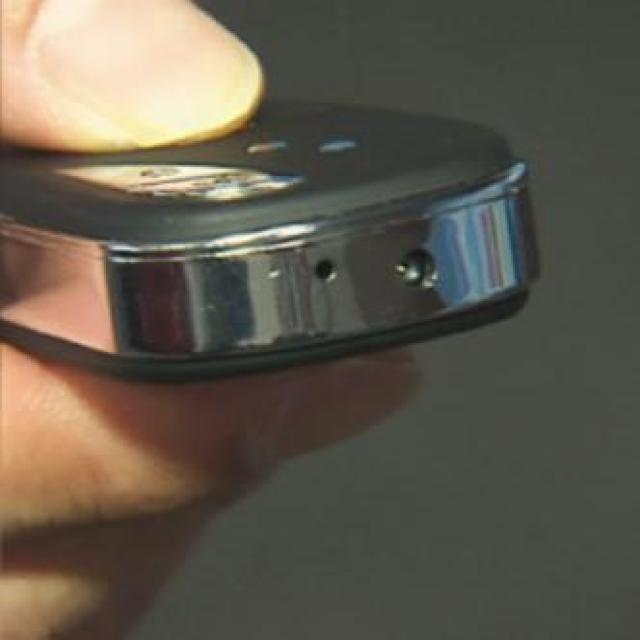hidden camera: (304, 244, 349, 293)
